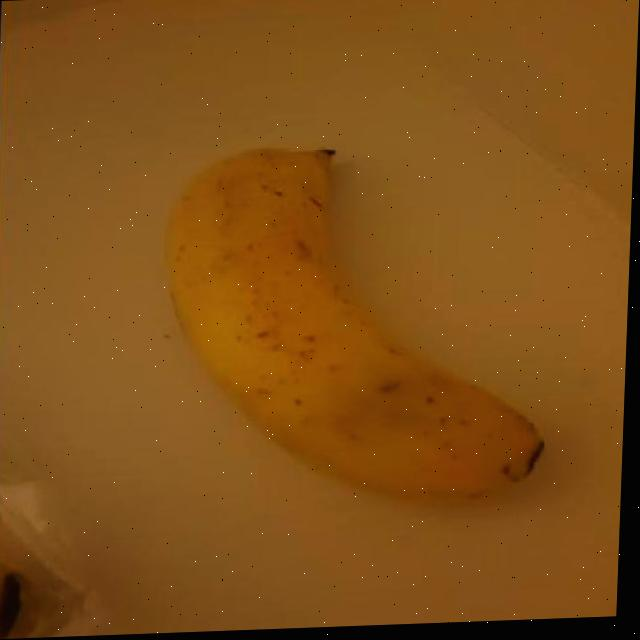banana: (146, 121, 562, 518)
